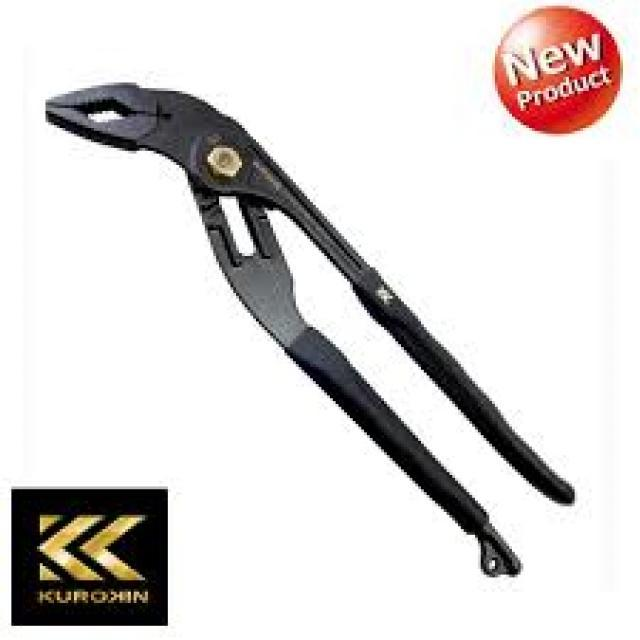pliers: (40, 65, 579, 590)
